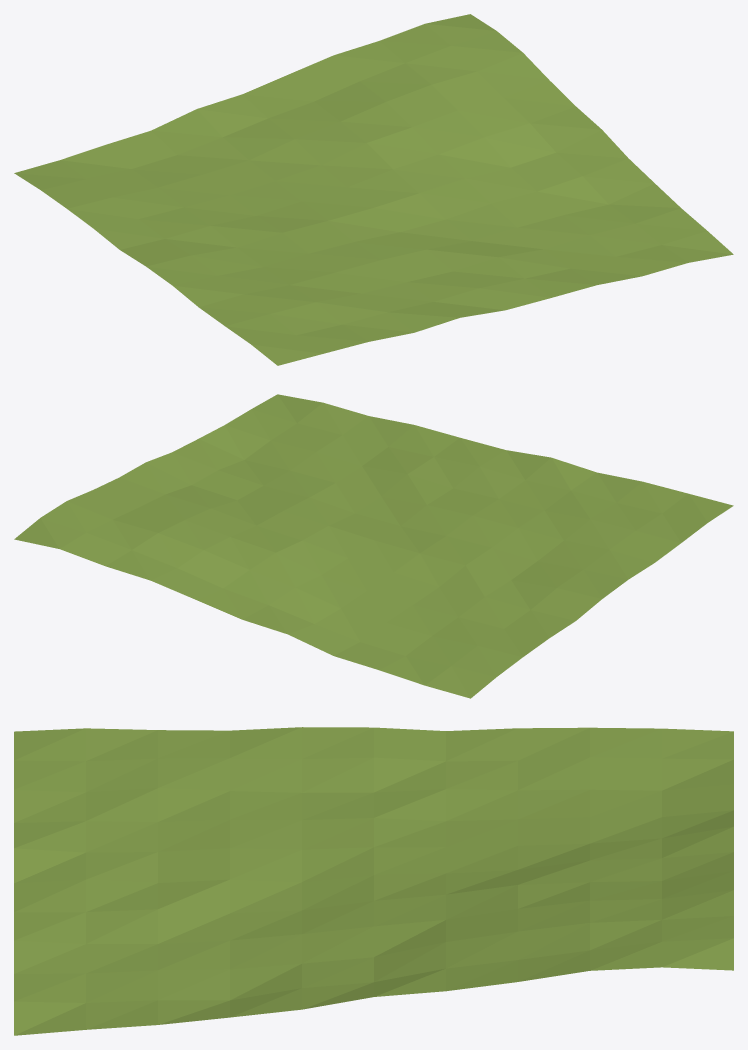
Rendered from terrain-plane_02-1.fbx.
3 views of the same model, one above another, from view 1: azimuth 30°, elevation 25°; view 2: azimuth 150°, elevation 25°; view 3: azimuth 270°, elevation 25° (orthographic). The views are drawn at different scales.
Visible parts, largest first — view 1: terrain-plane_02-1; view 2: terrain-plane_02-1; view 3: terrain-plane_02-1.
Boxes of the visible parts, x1,y1,x2,y2 form: terrain-plane_02-1: (14,14,733,365); terrain-plane_02-1: (14,394,733,698); terrain-plane_02-1: (14,727,733,1035).
Size of the model in its own units: 2001 by 212 by 2000.
